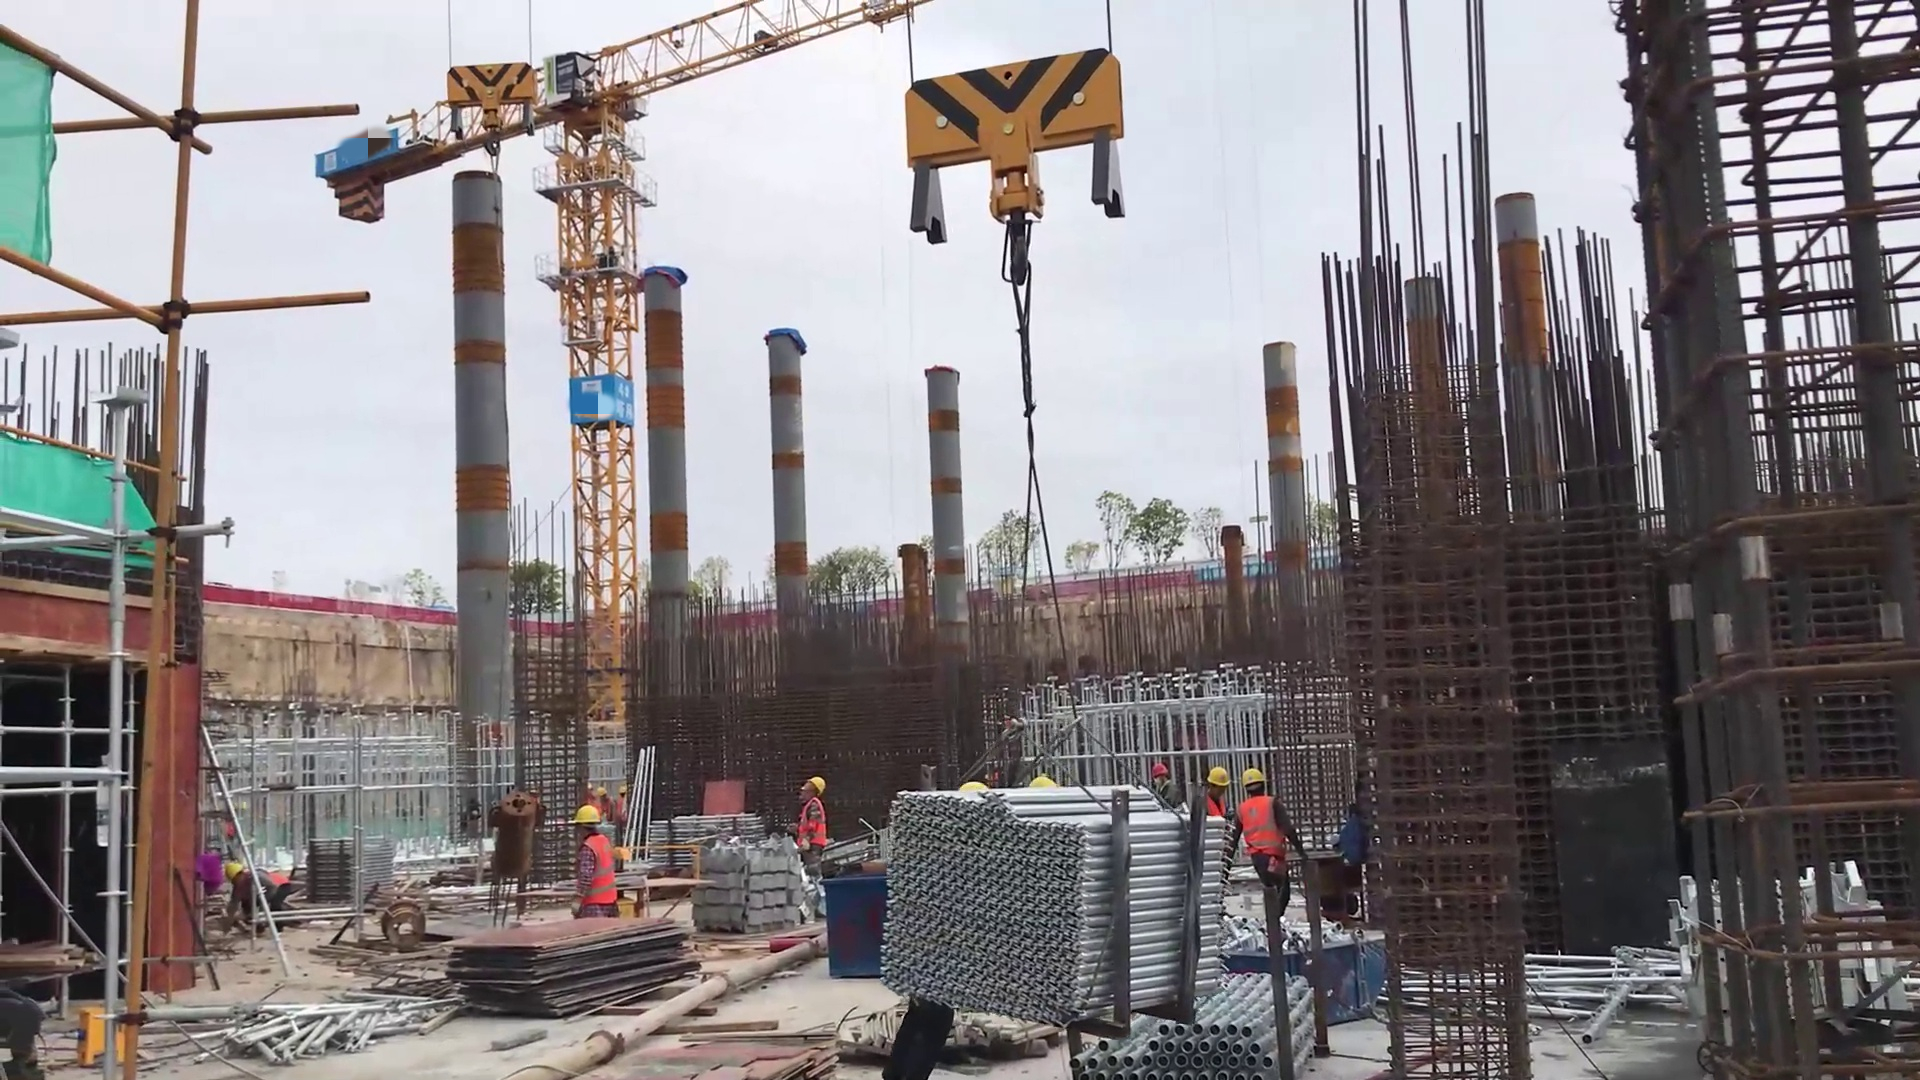board: (436, 907, 694, 1014)
helmet: (1197, 758, 1283, 804), (565, 797, 616, 827), (806, 762, 842, 803)
hook: (892, 34, 1140, 289), (431, 47, 582, 164)
hopper: (1211, 919, 1423, 1026)
person: (1235, 765, 1325, 914), (567, 806, 616, 912), (796, 773, 839, 868)
scaffold: (877, 769, 1243, 1047)
